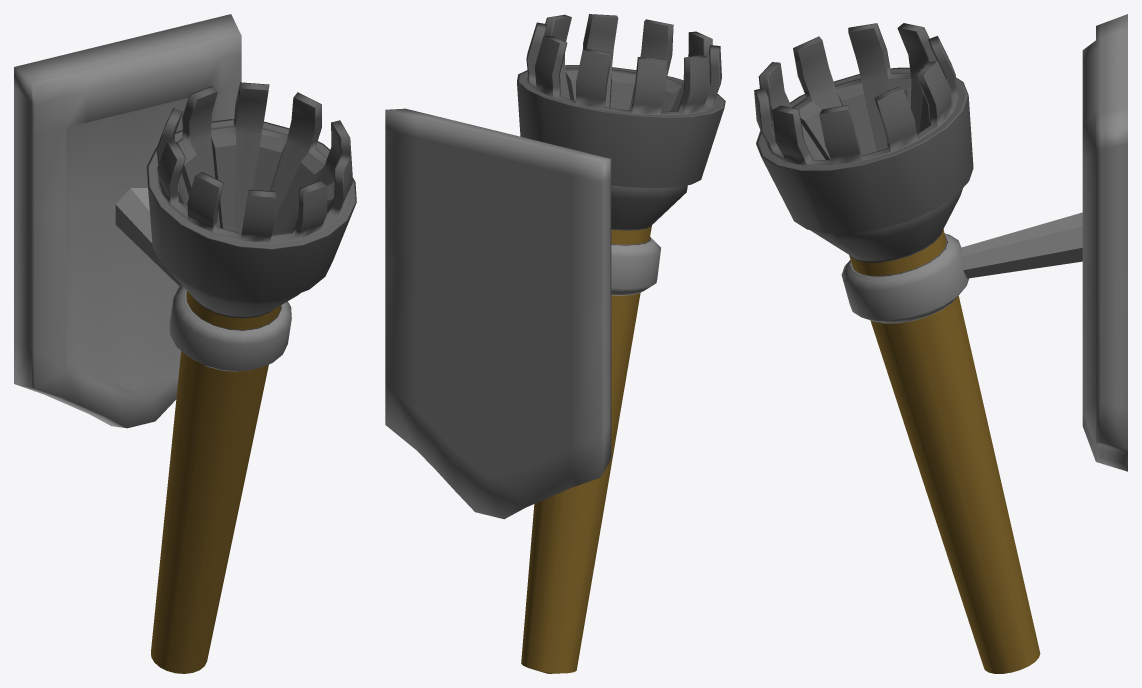
The model's file is antorcha.fbx.
3 views of the same model, side by side, from view 1: azimuth 30°, elevation 25°; view 2: azimuth 150°, elevation 25°; view 3: azimuth 270°, elevation 25° (orthographic). The views are drawn at different scales.
Visible parts, largest first — view 1: pCube2; view 2: pCube2; view 3: pCube2.
Boxes of the visible parts, left/top/right/bottom form: pCube2: left=14, top=14, right=356, bottom=673; pCube2: left=385, top=14, right=725, bottom=673; pCube2: left=754, top=14, right=1127, bottom=673.
Bounding box in the file's own units: 2.99 × 7.94 × 4.34.
